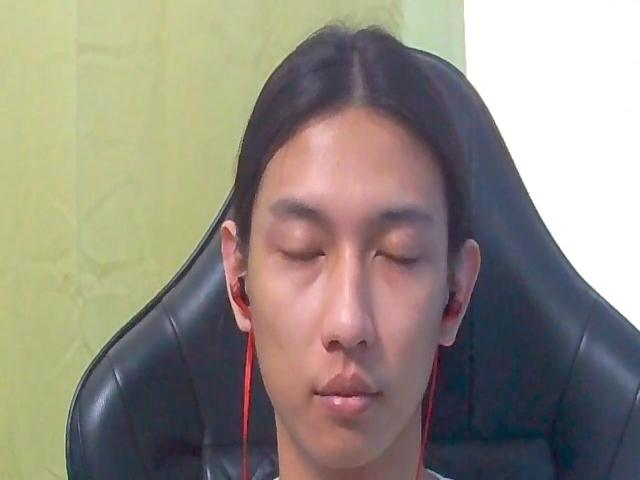eye_closed: (364, 228, 434, 280), (267, 226, 332, 281)
face: (256, 130, 438, 480)
